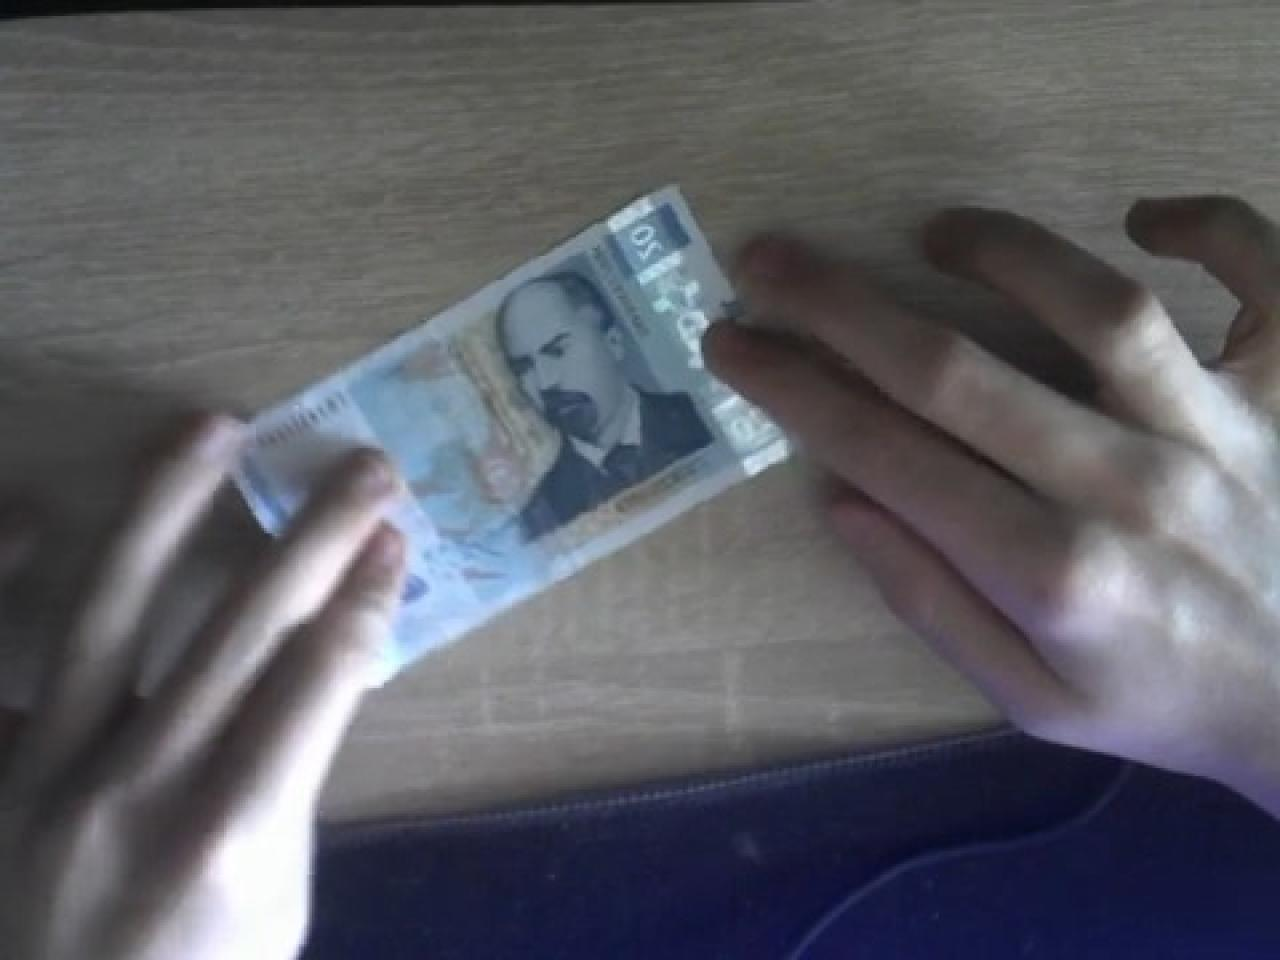20leva: (222, 184, 794, 683)
